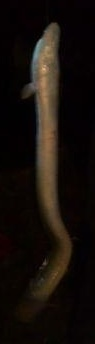Anguilla anguilla: (20, 20, 75, 324)
